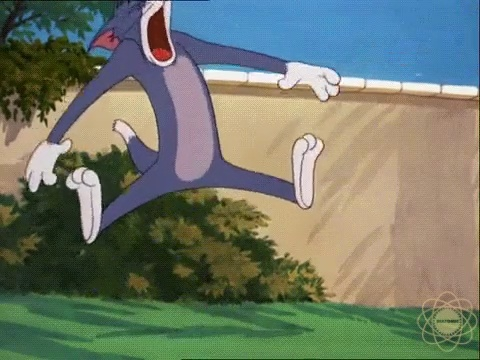tom: (21, 1, 344, 246)
